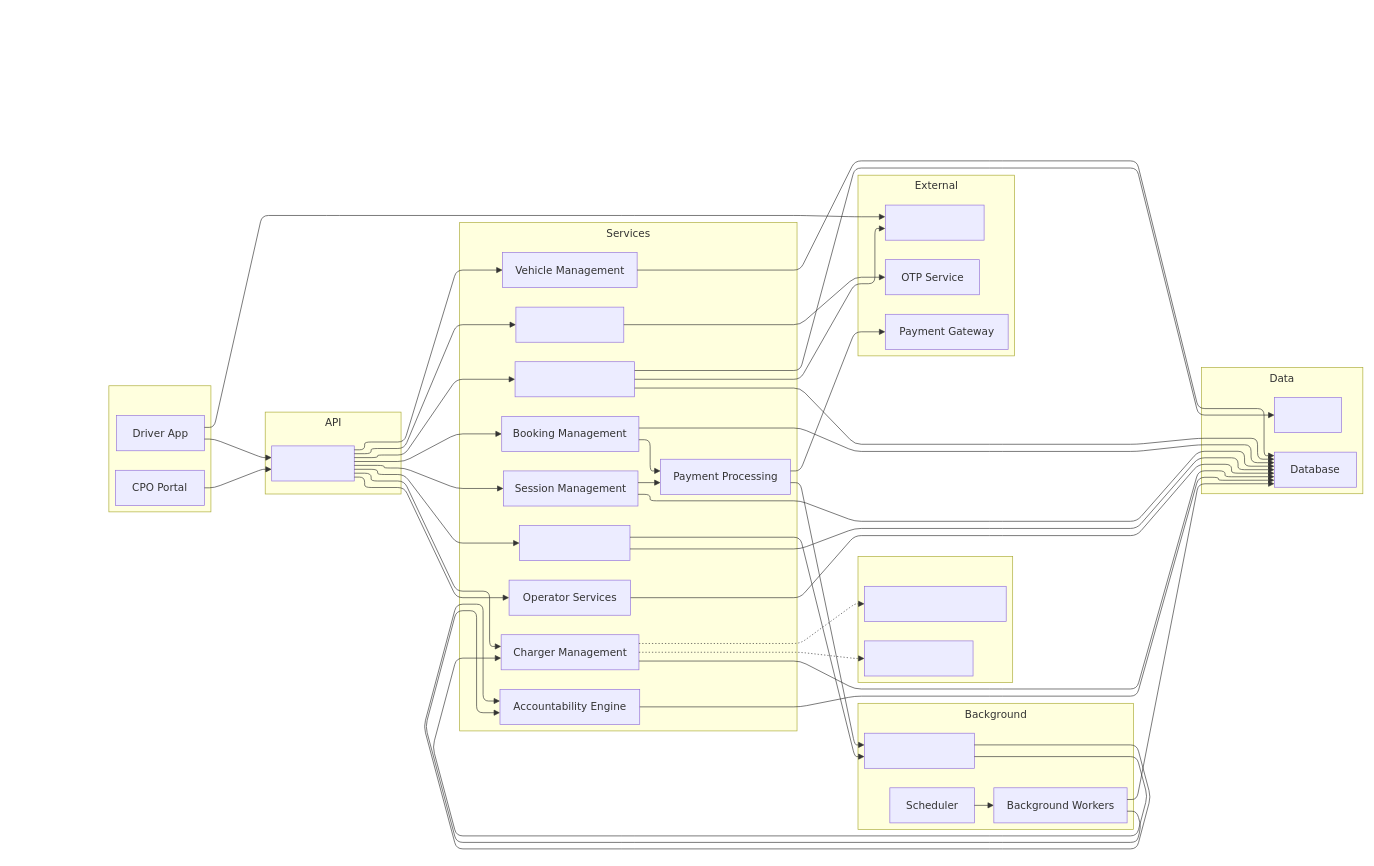
Image size: 1374x866. Some labels were removed from this diagram. The box of each missing label's shape, as (x1, y1, x2, y2) in pixels:
API Layer: (271, 445, 354, 481)
Authentication: (515, 306, 624, 342)
Cache: (1274, 397, 1341, 433)
Client: (108, 385, 211, 512)
External CPO API Sync: (864, 586, 1006, 621)
Fault Reporting: (519, 525, 630, 561)
Maps Service: (885, 204, 984, 240)
Message Queue: (864, 733, 974, 768)
Object Storage(not in MVP): (864, 640, 973, 676)
Station Discovery: (514, 361, 635, 397)
